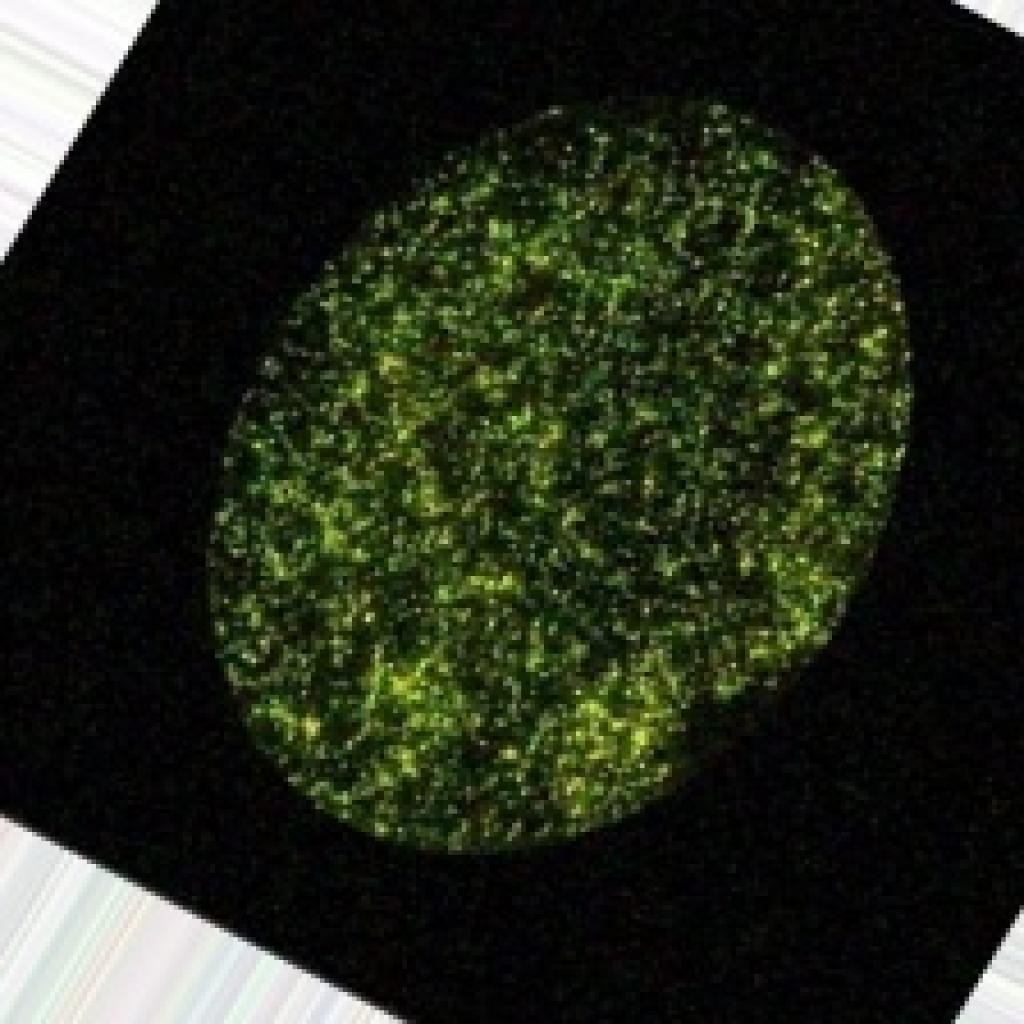Sphericalbacteria: (197, 82, 914, 855)
